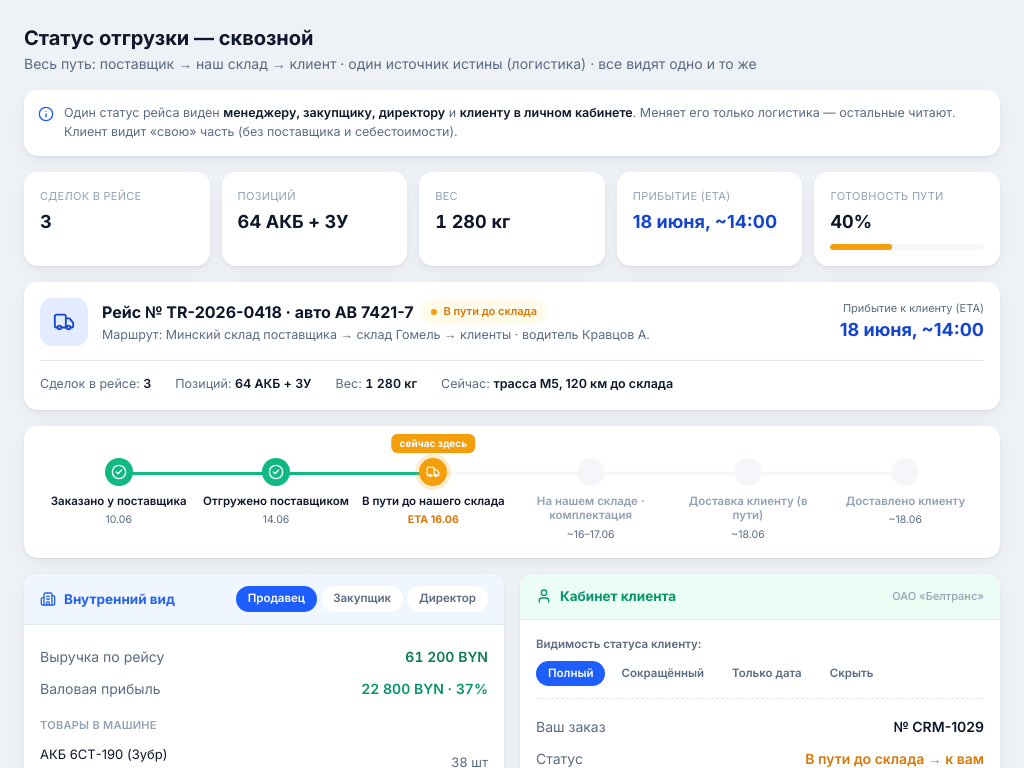
Scenario: ShipmentStatus › видимость статуса клиенту «Скрыть» убирает и статус, и дату доставки
Expected: the text "В пути до склада → к вам" is shown, [805,749,984,767]
Click the button "Скрыть" at [852, 673], box [818,661,885,686]
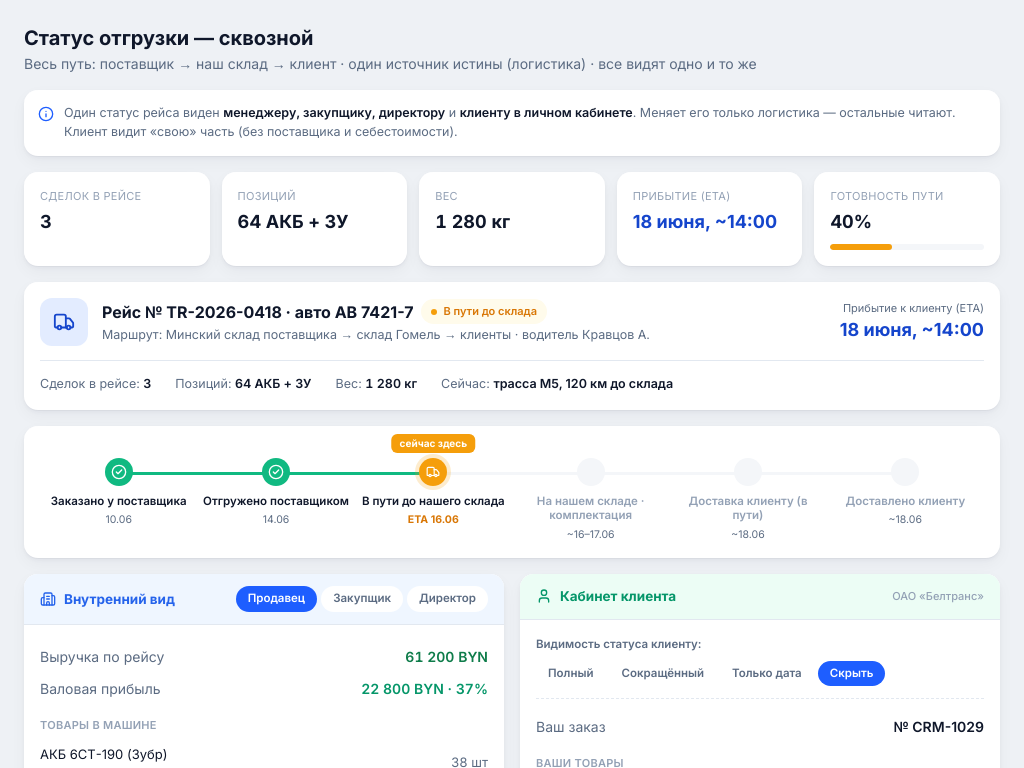
Expected: the text "В пути до склада → к вам" is gone
